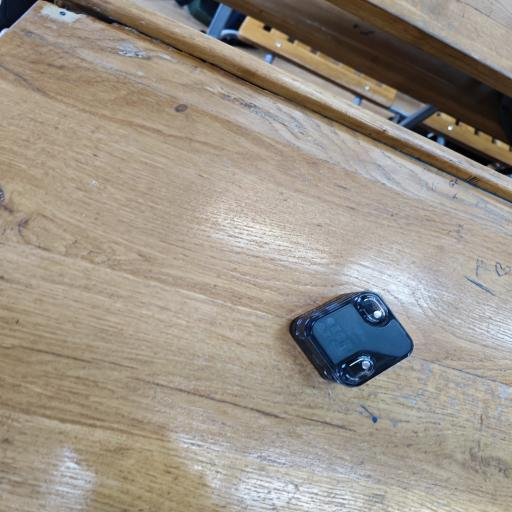CASTI: (281, 289, 419, 392)
